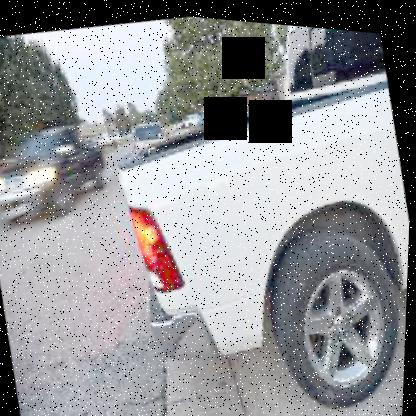not_emergency: (111, 88, 413, 414), (0, 107, 121, 235)
